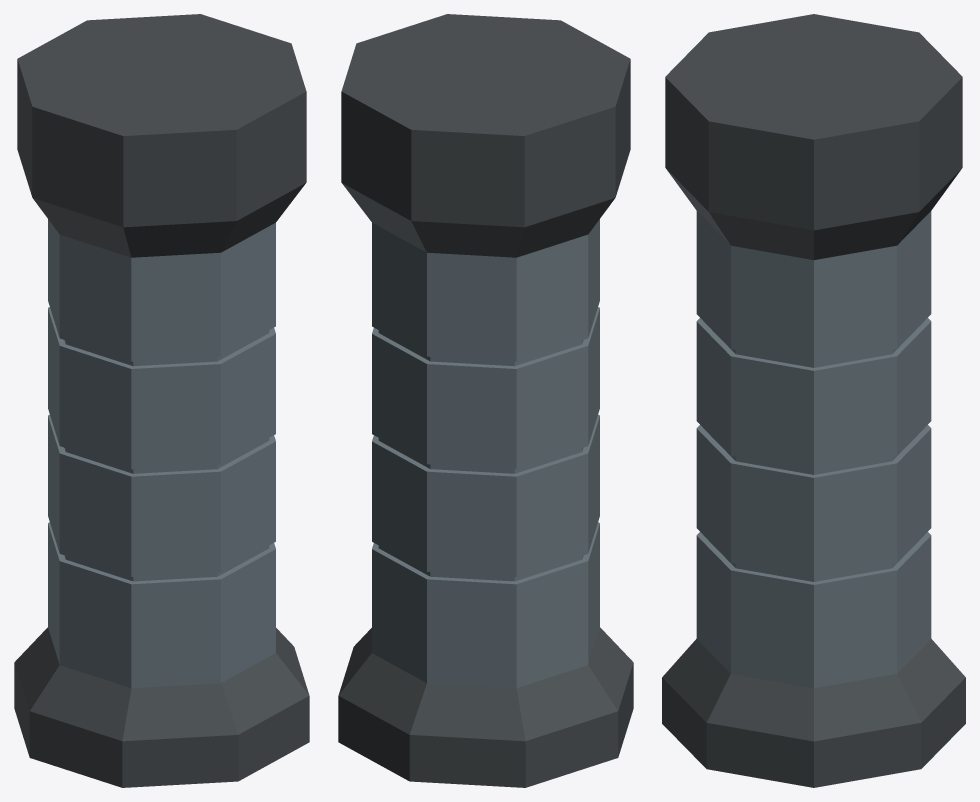
The model's file is pillar_2.glb.
The picture shows the model from 3 angles, left to right: view 1: azimuth 30°, elevation 25°; view 2: azimuth 150°, elevation 25°; view 3: azimuth 270°, elevation 25°; orthographic projection.
Parts seen in each view (by area): view 1: pillar_2; view 2: pillar_2; view 3: pillar_2.
Part boxes in pixels (x1,y1,x2,y2): pillar_2: (14,14,309,787); pillar_2: (338,14,633,787); pillar_2: (662,14,965,787).
Size of the model in its own units: 0.648 by 1.52 by 0.648.
1 material, 1 textured.
